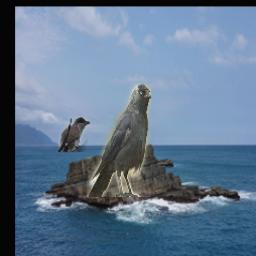Crow: (87, 84, 151, 197)
Cuckoo: (59, 116, 91, 152)
